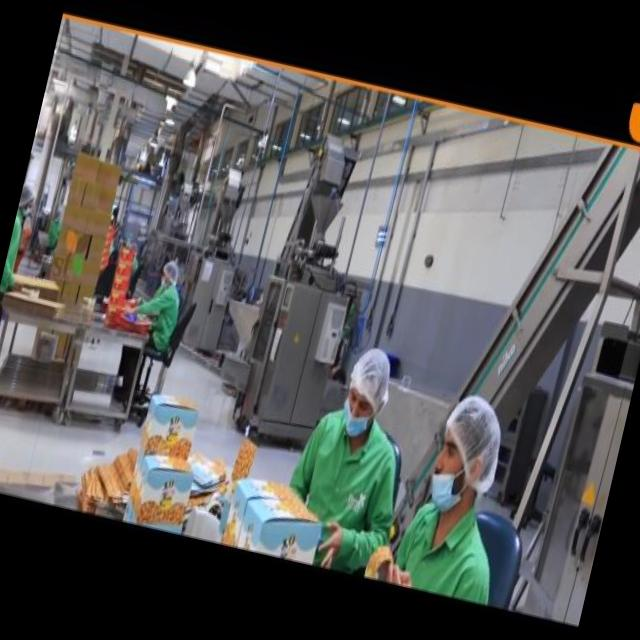hairnet: (436, 392, 514, 490), (347, 348, 398, 412), (160, 262, 182, 285), (18, 184, 36, 211)
